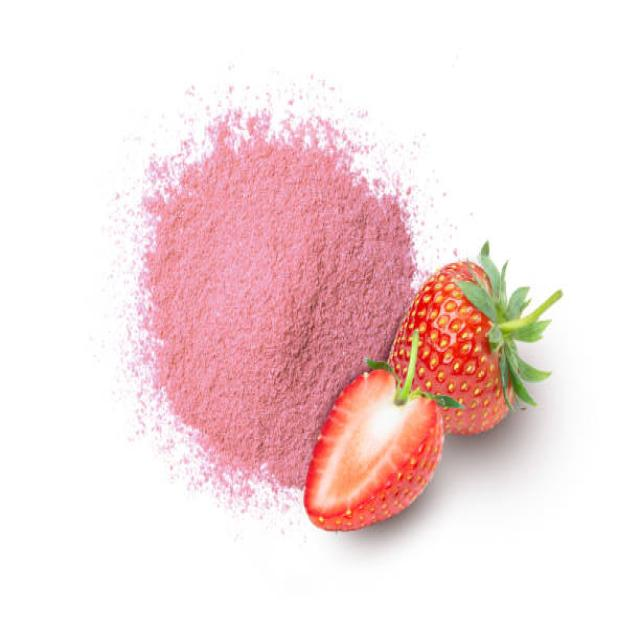Healthy Fruit: (305, 367, 446, 532), (387, 259, 513, 432)
